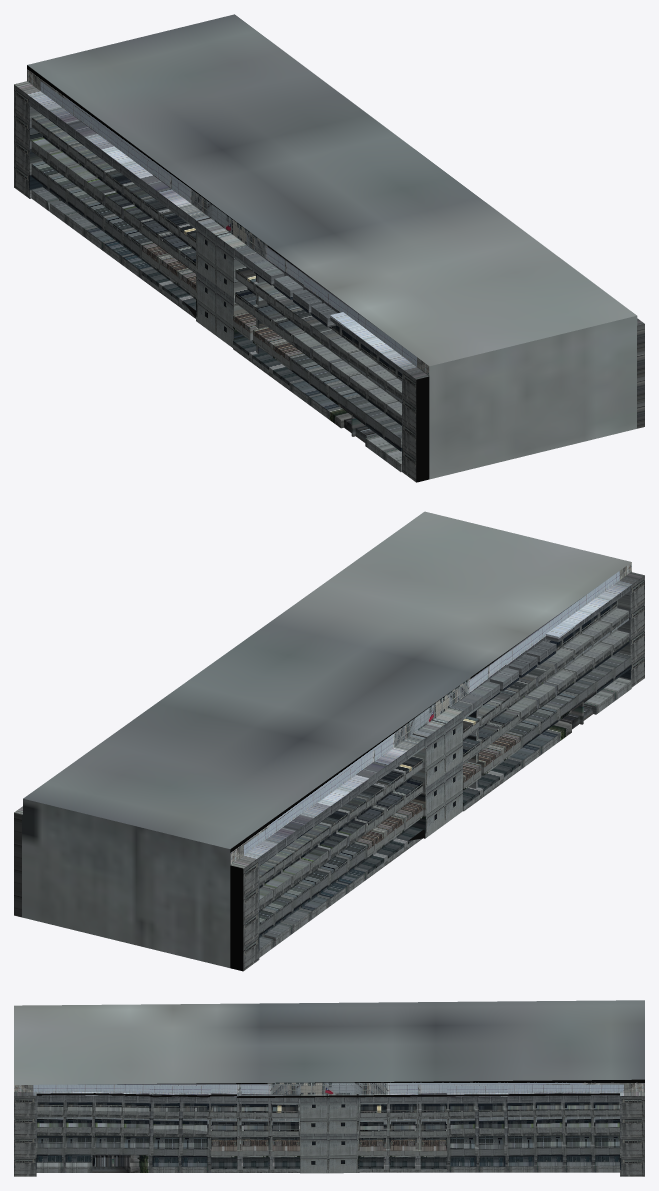
The model's file is hanying.glb.
The picture shows the model from 3 angles, top to bottom: view 1: azimuth 30°, elevation 25°; view 2: azimuth 150°, elevation 25°; view 3: azimuth 270°, elevation 25°; orthographic projection. The views are drawn at different scales.
Visible parts, largest first — view 1: hang; view 2: hang; view 3: hang.
Part boxes in pixels (x1,y1,x2,y2): hang: [14, 14, 644, 482]; hang: [14, 511, 644, 971]; hang: [14, 1000, 644, 1176].
Bounding box in the file's own units: 0.4286 × 0.2126 × 1.29.
Materials: 2 (1 with a texture image).
